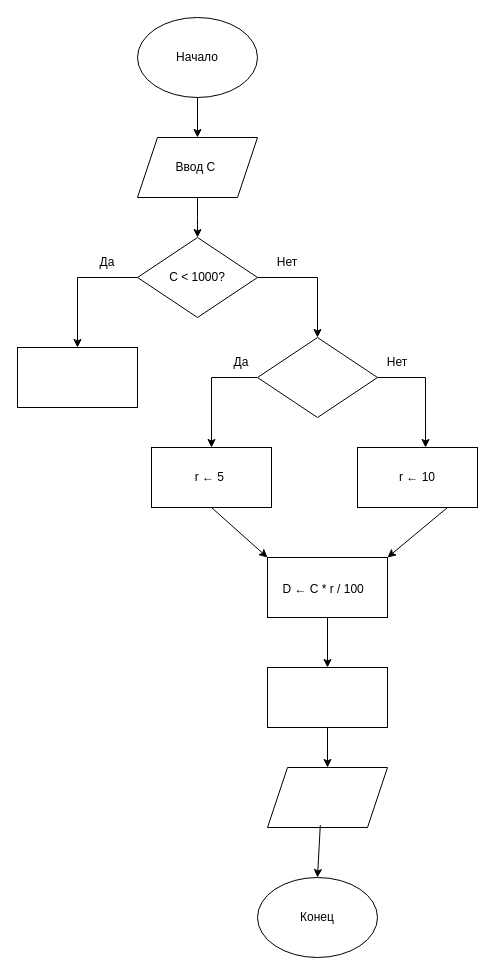
This 495x975 diagram has some shape labels left out. The shapes that lost their labels are listed below. From the top down, each one's centre as x and y in pixels, then its label:
At [77,377]: "r ← 0".
At [317,377]: "C < 5000?".
At [327,697]: "K ← C - D".
At [327,797]: "Вывод r, D, K".
